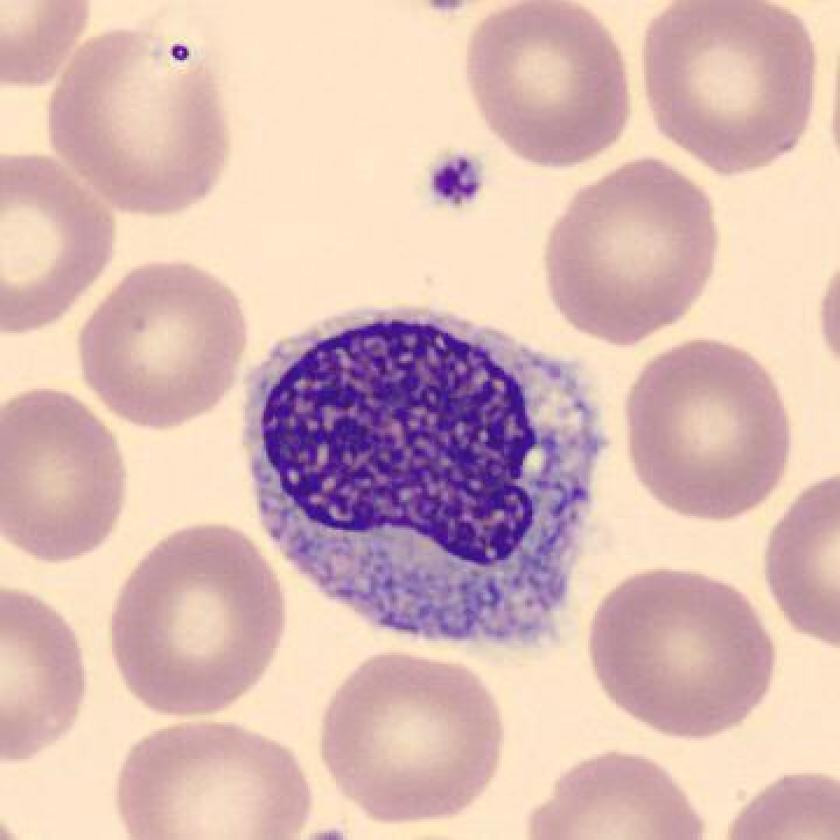monocyte: (232, 286, 622, 672)
